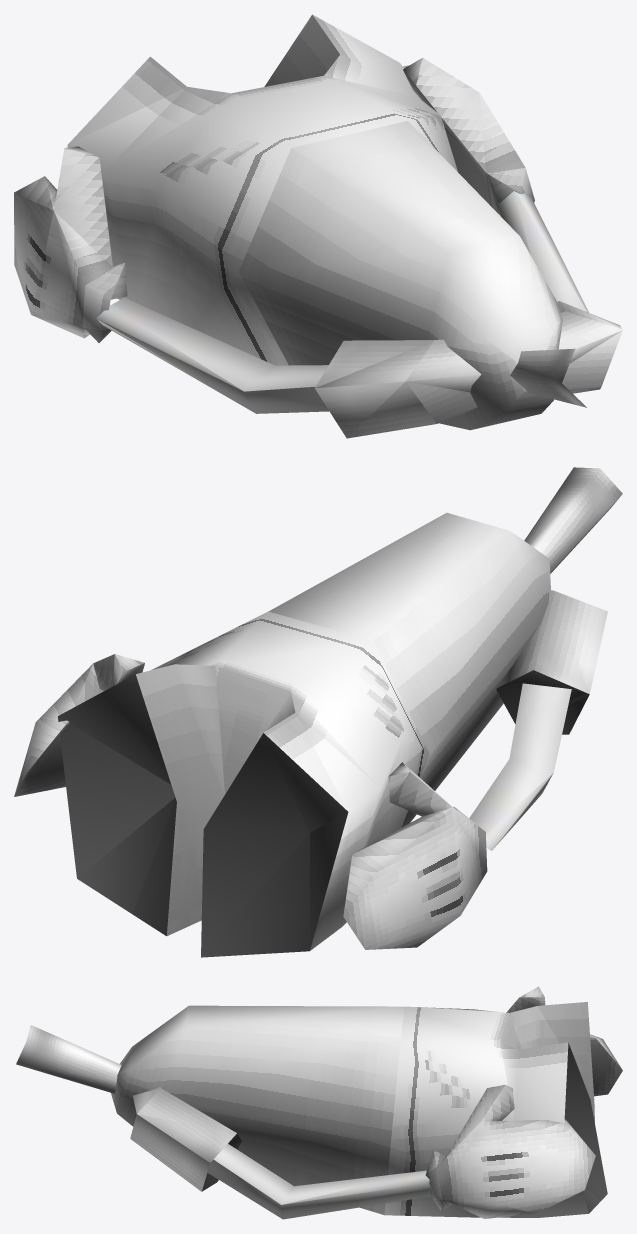
The model's file is torso_ls_500.glb.
3 views of the same model, one above another, from view 1: azimuth 30°, elevation 25°; view 2: azimuth 150°, elevation 25°; view 3: azimuth 270°, elevation 25° (orthographic). The views are drawn at different scales.
Parts seen in each view (by area): view 1: torso-top, torso-bot, hands, sleeves, arms, neck; view 2: torso-bot, torso-top, hands, sleeves, arms, neck; view 3: torso-top, torso-bot, hands, arms, sleeves, neck.
Part boxes in pixels (x1=…): torso-top: x1=238, y1=121, x2=562, y2=430; torso-bot: x1=67, y1=14, x2=457, y2=365; hands: x1=14, y1=57, x2=534, y2=342; sleeves: x1=315, y1=301, x2=622, y2=438; arms: x1=96, y1=191, x2=588, y2=413; neck: x1=510, y1=348, x2=586, y2=407; torso-bot: x1=57, y1=611, x2=429, y2=957; torso-top: x1=268, y1=512, x2=550, y2=827; hands: x1=14, y1=654, x2=487, y2=949; sleeves: x1=496, y1=589, x2=607, y2=734; arms: x1=469, y1=683, x2=571, y2=850; neck: x1=524, y1=467, x2=622, y2=573; torso-top: x1=111, y1=1005, x2=404, y2=1214; torso-bot: x1=384, y1=1002, x2=607, y2=1217; hands: x1=425, y1=986, x2=622, y2=1218; arms: x1=207, y1=1144, x2=430, y2=1219; sleeves: x1=130, y1=1086, x2=241, y2=1191; neck: x1=16, y1=1025, x2=121, y2=1093.
Size of the model in its own units: 2.1 by 1.16 by 3.34.
7 materials, 7 textured.
